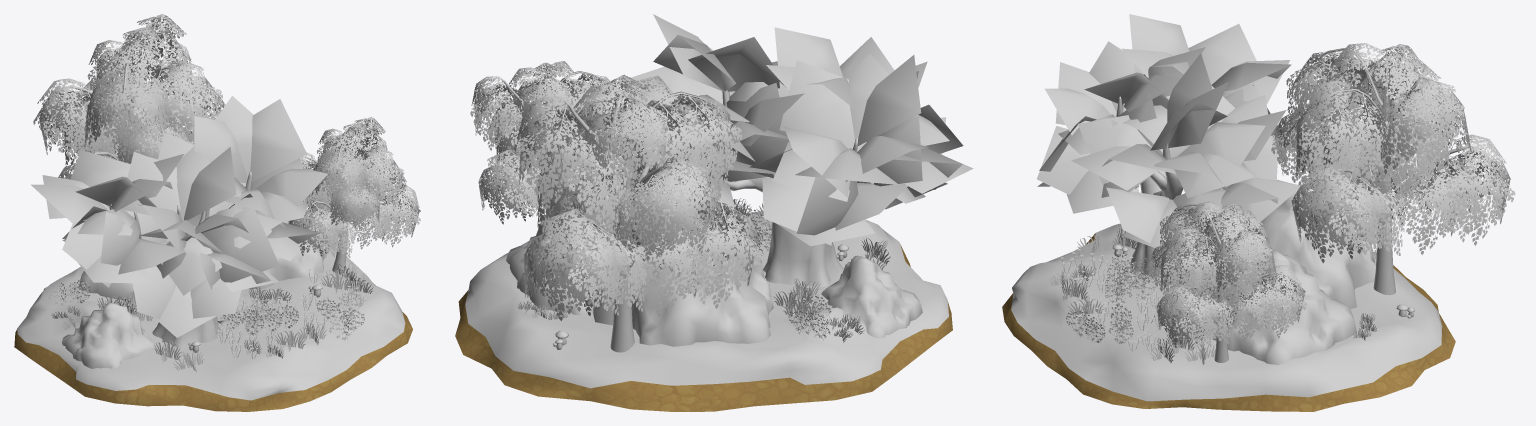
File: Fantasy Landscape.FBX
3 renders of one model, left to right at view 1: azimuth 30°, elevation 25°; view 2: azimuth 150°, elevation 25°; view 3: azimuth 270°, elevation 25°, orthographic. The views are drawn at different scales.
Parts seen in each view (by area): view 1: Deciduous_tree1, GroundGrass, Birch_tree3, Birch_tree2, Grass010, GroundRoad, Rock1; view 2: Birch_tree3, Deciduous_tree1, GroundGrass, Rock1, GroundRoad, Birch_tree2, Grass010; view 3: Deciduous_tree1, Birch_tree3, GroundGrass, Birch_tree2, Rock1, GroundRoad, Grass010.
Boxes of the visible parts, bbox=[...] form: Deciduous_tree1: bbox=[31, 95, 327, 347]; GroundGrass: bbox=[17, 246, 405, 400]; Birch_tree3: bbox=[33, 14, 225, 179]; Birch_tree2: bbox=[288, 117, 420, 273]; Grass010: bbox=[48, 263, 373, 372]; GroundRoad: bbox=[14, 287, 412, 411]; Rock1: bbox=[62, 219, 328, 368]; Birch_tree3: bbox=[515, 74, 762, 352]; Deciduous_tree1: bbox=[620, 14, 973, 286]; GroundGrass: bbox=[465, 211, 948, 388]; Rock1: bbox=[506, 214, 922, 346]; GroundRoad: bbox=[455, 244, 952, 411]; Birch_tree2: bbox=[470, 61, 637, 224]; Grass010: bbox=[517, 192, 890, 349]; Deciduous_tree1: bbox=[1037, 14, 1300, 276]; Birch_tree3: bbox=[1271, 43, 1515, 295]; GroundGrass: bbox=[1011, 223, 1442, 401]; Birch_tree2: bbox=[1147, 201, 1307, 362]; Rock1: bbox=[1184, 184, 1375, 364]; GroundRoad: bbox=[1002, 233, 1455, 411]; Grass010: bbox=[1049, 228, 1414, 364].
Size of the model in its own units: 2425 by 1516 by 2621.
